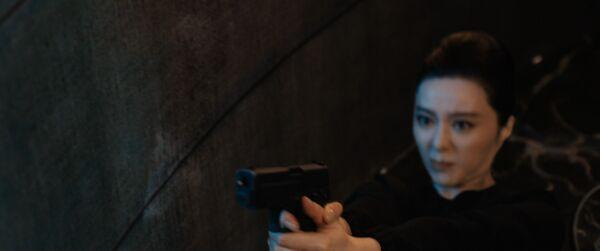Gun: (235, 164, 333, 234)
